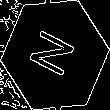N_SE: (26, 26, 84, 84)
